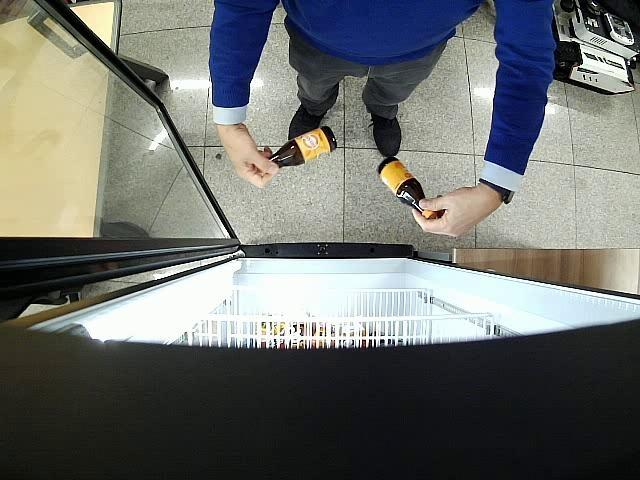17_vita500: (259, 126, 338, 174), (377, 158, 437, 220)
